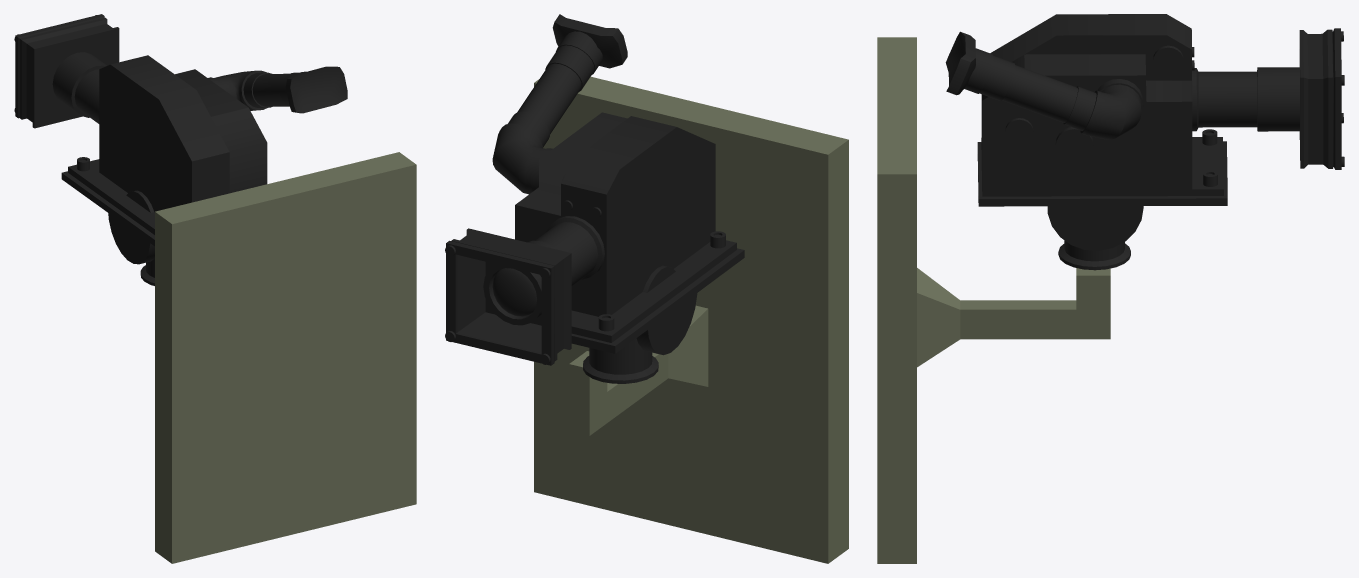
The model's file is flatback.glb.
The picture shows the model from 3 angles, left to right: view 1: azimuth 30°, elevation 25°; view 2: azimuth 150°, elevation 25°; view 3: azimuth 270°, elevation 25°; orthographic projection. The views are drawn at different scales.
Parts seen in each view (by area): view 1: Cube, camBody2.001, lensHousing.001, camBody1.001, lensBarrel.001, pCube7.001, dialFront1.001, plate1.001, pCylinder19.001, pCube6.001; view 2: Cube, camBody2.001, lensHousing.001, dialFront1.001, camBody1.001, plate1.001, lensBarrel.001, pCylinder21.001, pCube6.001, pCube7.001, pCylinder19.001, lens.001 (+1 smaller); view 3: Cube, camBody1.001, dialFront1.001, camBody2.001, lensBarrel.001, lensHousing.001, pCylinder18.001, pCube6.001, plate1.001, pCylinder21.001, pCube7.001, dialFront.001 (+2 smaller).
Part boxes in pixels (x1,y1,x2,y2): Cube: [155, 152, 416, 563]; camBody2.001: [99, 55, 229, 212]; lensHousing.001: [15, 14, 119, 128]; camBody1.001: [175, 69, 267, 193]; lensBarrel.001: [52, 52, 106, 123]; pCube7.001: [285, 66, 347, 113]; dialFront1.001: [208, 70, 306, 110]; plate1.001: [68, 159, 154, 234]; pCylinder19.001: [108, 213, 154, 264]; pCube6.001: [61, 171, 154, 246]; Cube: [534, 76, 848, 563]; camBody2.001: [561, 116, 715, 316]; lensHousing.001: [446, 228, 571, 365]; dialFront1.001: [492, 31, 602, 194]; camBody1.001: [515, 112, 627, 242]; plate1.001: [571, 240, 736, 342]; lensBarrel.001: [527, 216, 604, 285]; pCylinder21.001: [583, 338, 658, 383]; pCube6.001: [571, 248, 744, 353]; pCube7.001: [552, 14, 627, 68]; pCylinder19.001: [636, 293, 697, 355]; lens.001: [492, 268, 536, 316]; Cube: [877, 37, 1110, 563]; camBody1.001: [982, 54, 1192, 193]; dialFront1.001: [964, 48, 1143, 139]; camBody2.001: [981, 14, 1191, 168]; lensBarrel.001: [1192, 67, 1299, 131]; lensHousing.001: [1299, 28, 1341, 169]; pCylinder18.001: [1047, 206, 1143, 250]; pCube6.001: [977, 141, 1227, 206]; plate1.001: [981, 137, 1223, 196]; pCylinder21.001: [1058, 240, 1130, 270]; pCube7.001: [945, 31, 975, 95]; dialFront.001: [1055, 127, 1093, 163].
Size of the model in its own units: 0.9188 by 1.51 by 1.33.
